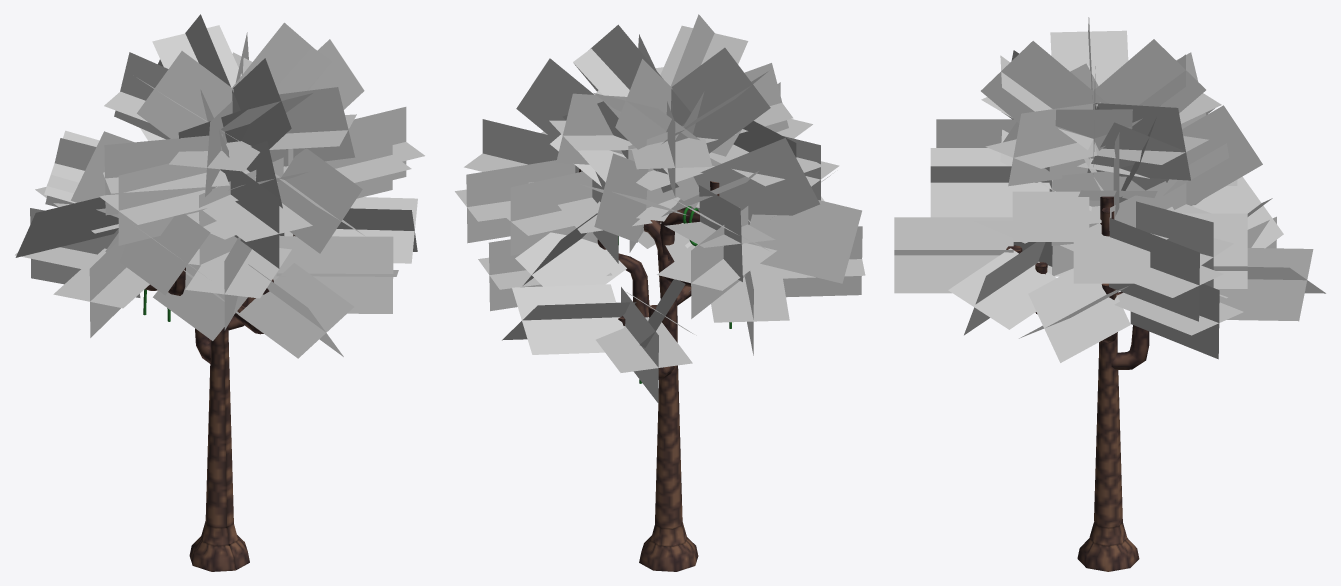
File: Prop_Arbol1.fbx
3 views of the same model, side by side, from view 1: azimuth 30°, elevation 25°; view 2: azimuth 150°, elevation 25°; view 3: azimuth 270°, elevation 25° (orthographic). The views are drawn at different scales.
Parts seen in each view (by area): view 1: Rama.001; view 2: Rama.001; view 3: Rama.001.
Boxes of the visible parts, bbox=[...] form: Rama.001: bbox=[15, 14, 424, 571]; Rama.001: bbox=[455, 14, 865, 571]; Rama.001: bbox=[894, 17, 1325, 571].
Size of the model in its own units: 5.31 by 7.05 by 5.29.
